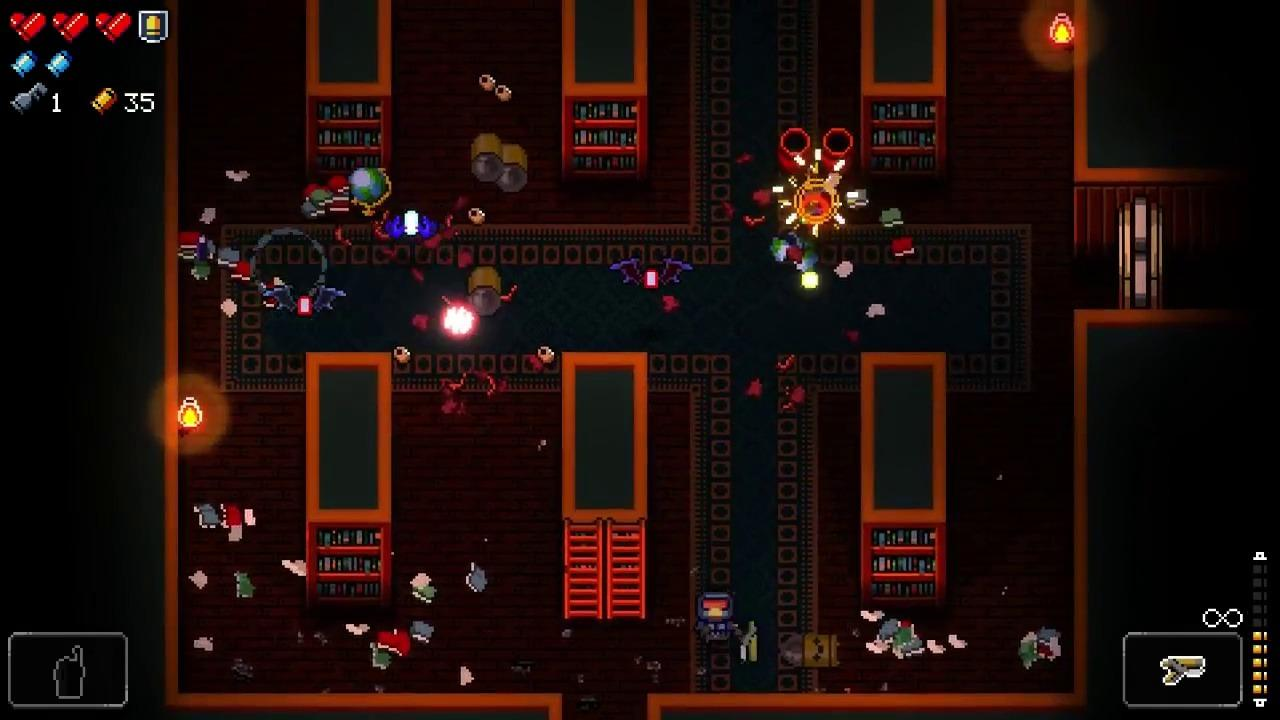bullat: (610, 256, 692, 288), (263, 285, 347, 314)
bullet: (440, 303, 480, 340)
dead_bullet_kin: (781, 632, 839, 669), (493, 142, 529, 193), (467, 266, 502, 318), (470, 132, 503, 184)
locked_door: (1119, 196, 1159, 311)
player: (697, 592, 734, 642)
spirat: (383, 209, 437, 242)
